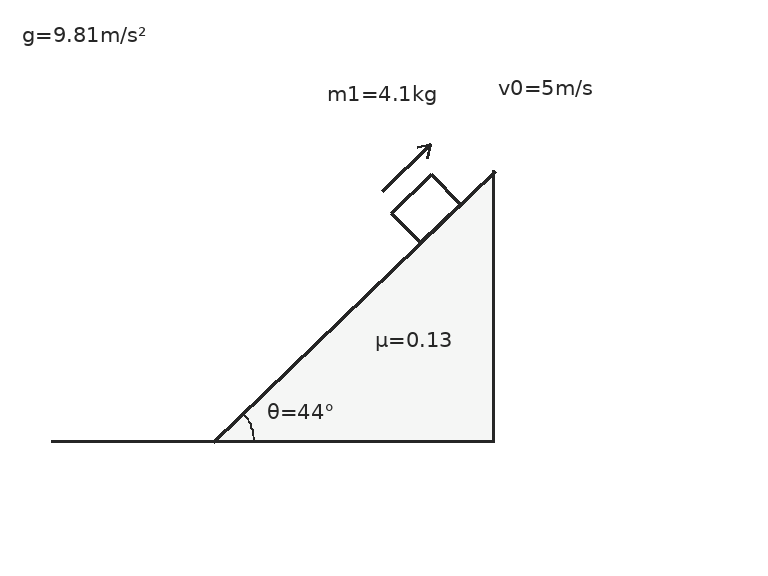block: (389, 172, 462, 244)
ramp: (212, 169, 495, 443)
